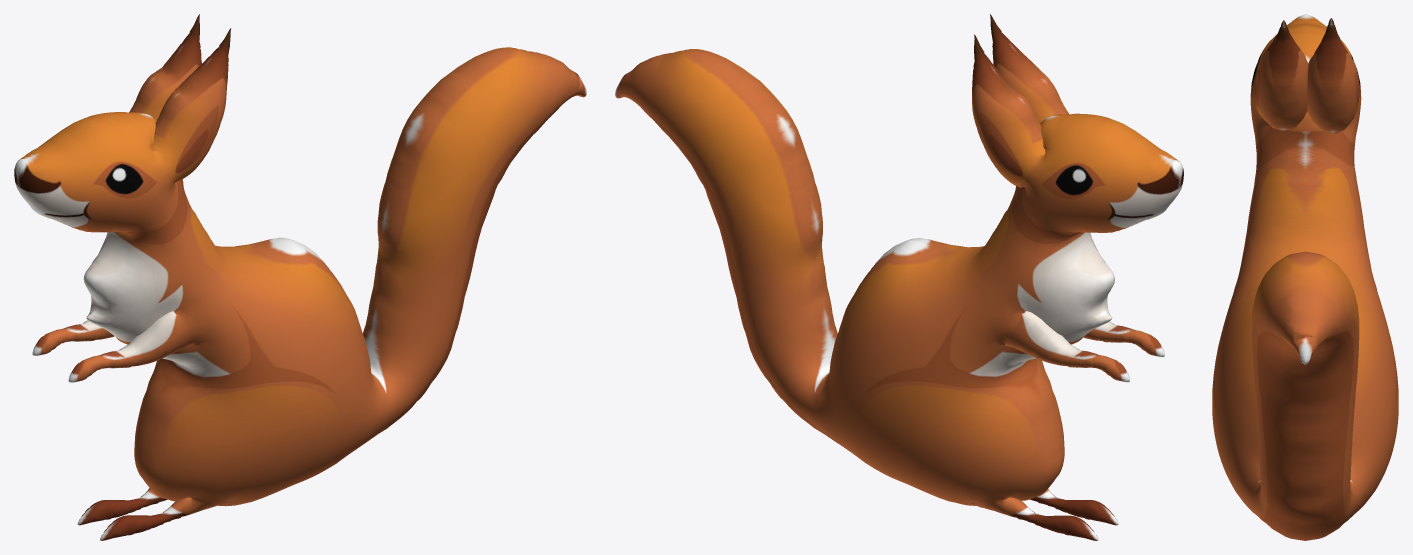
File: sq_draw_anim.glb
The picture shows the model from 3 angles, left to right: view 1: azimuth 30°, elevation 25°; view 2: azimuth 150°, elevation 25°; view 3: azimuth 270°, elevation 25°; orthographic projection.
Size of the model in its own units: 7.03 by 5.69 by 1.98.
Materials: 1 (1 with a texture image).
